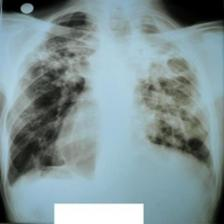tuberculosis: (2, 9, 222, 196)
